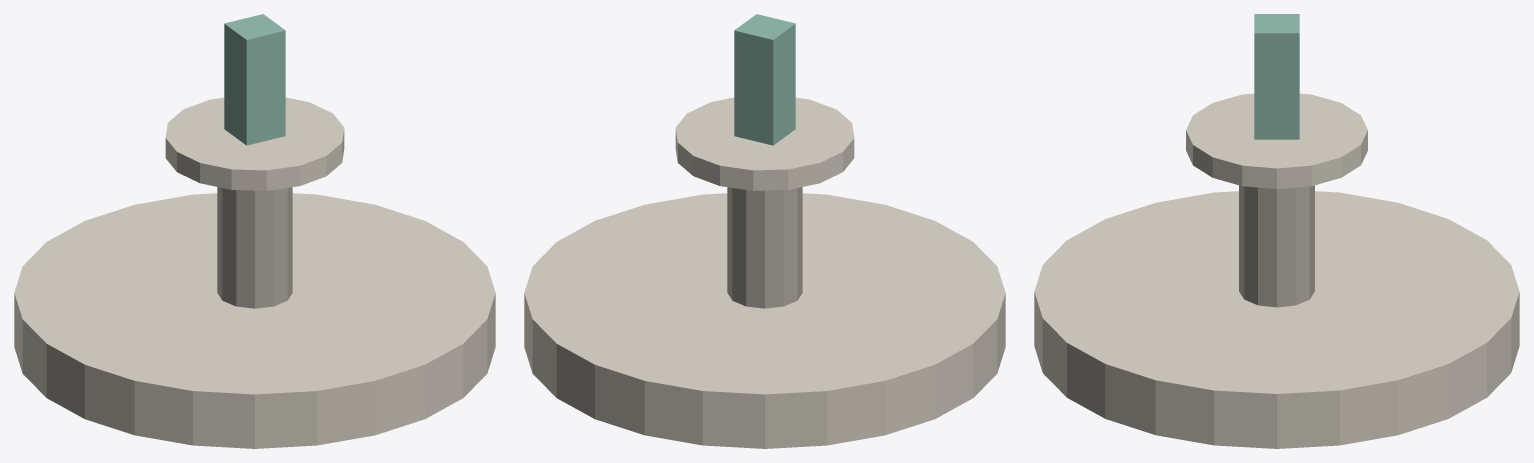
File: Fountain.glb
3 views of the same model, side by side, from view 1: azimuth 30°, elevation 25°; view 2: azimuth 150°, elevation 25°; view 3: azimuth 270°, elevation 25° (orthographic).
Parts seen in each view (by area): view 1: Basin, Bowl, Column, Statue; view 2: Basin, Bowl, Column, Statue; view 3: Basin, Bowl, Column, Statue.
Boxes of the visible parts, left/top/right/bottom form: Basin: left=14, top=193, right=495, bottom=448; Bowl: left=165, top=97, right=344, bottom=190; Column: left=217, top=187, right=292, bottom=308; Statue: left=224, top=14, right=285, bottom=145; Basin: left=524, top=193, right=1005, bottom=448; Bowl: left=675, top=97, right=854, bottom=190; Column: left=727, top=187, right=802, bottom=308; Statue: left=734, top=14, right=795, bottom=145; Basin: left=1034, top=191, right=1519, bottom=448; Bowl: left=1186, top=93, right=1367, bottom=188; Column: left=1239, top=185, right=1314, bottom=307; Statue: left=1254, top=14, right=1299, bottom=139.
Size of the model in its own units: 6.4 by 4.7 by 6.4.
